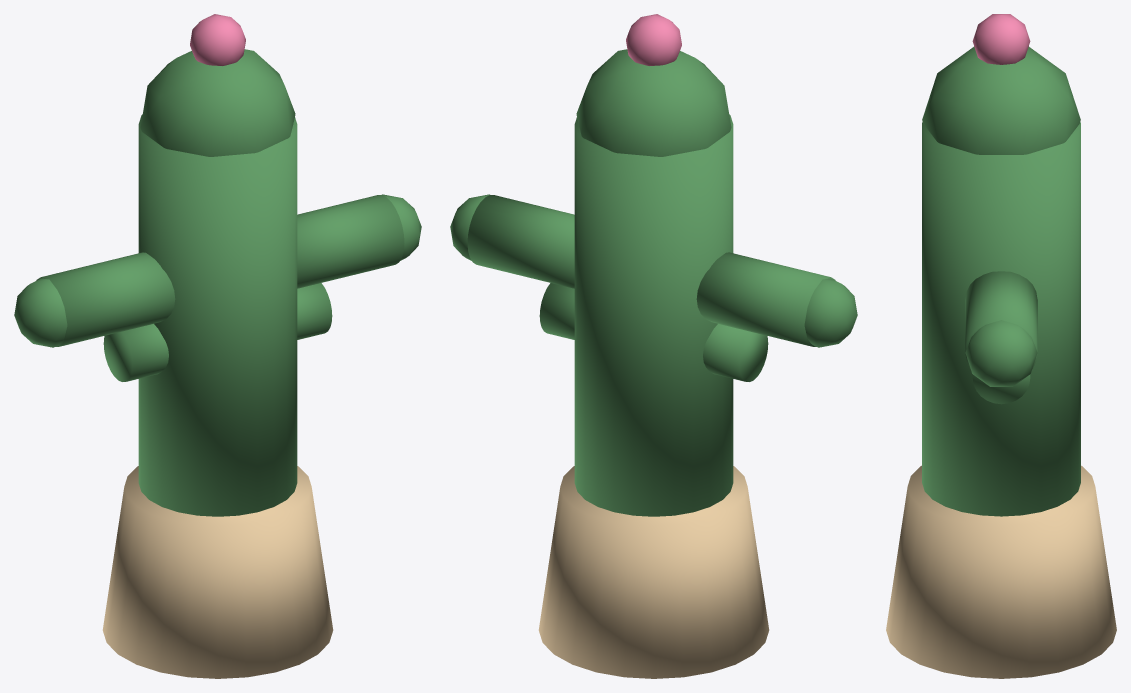
Rendered from cactus.glb.
3 renders of one model, left to right at view 1: azimuth 30°, elevation 25°; view 2: azimuth 150°, elevation 25°; view 3: azimuth 270°, elevation 25°, orthographic.
Visible parts, largest first — view 1: body, pot, top, arm, arm.001, hold, arm-tip, flower, hold.001, arm-tip.001; view 2: body, pot, top, arm, arm.001, hold, arm-tip, flower, hold.001, arm-tip.001; view 3: body, pot, top, arm.001, arm-tip.001, flower, hold.001.
Boxes of the visible parts, <box> form: body: <box>138,114,297,516</box>; pot: <box>102,466,333,678</box>; top: <box>140,49,295,156</box>; arm: <box>36,252,175,346</box>; arm.001: <box>297,195,404,288</box>; hold: <box>103,324,168,381</box>; arm-tip: <box>14,278,67,347</box>; flower: <box>190,14,245,65</box>; hold.001: <box>297,283,332,339</box>; arm-tip.001: <box>382,194,421,260</box>; body: <box>574,114,733,516</box>; pot: <box>538,466,769,678</box>; top: <box>576,49,731,156</box>; arm: <box>696,252,835,346</box>; arm.001: <box>467,195,574,288</box>; hold: <box>703,324,768,381</box>; arm-tip: <box>804,278,857,347</box>; flower: <box>626,14,681,65</box>; hold.001: <box>539,283,574,339</box>; arm-tip.001: <box>450,194,489,260</box>; body: <box>922,122,1080,516</box>; pot: <box>886,465,1116,678</box>; top: <box>922,46,1080,154</box>; arm.001: <box>965,271,1037,369</box>; arm-tip.001: <box>965,320,1037,386</box>; flower: <box>972,14,1030,64</box>; hold.001: <box>972,374,1030,404</box>.
Bounding box in the file's own units: 0.6351 × 0.94 × 0.32.
